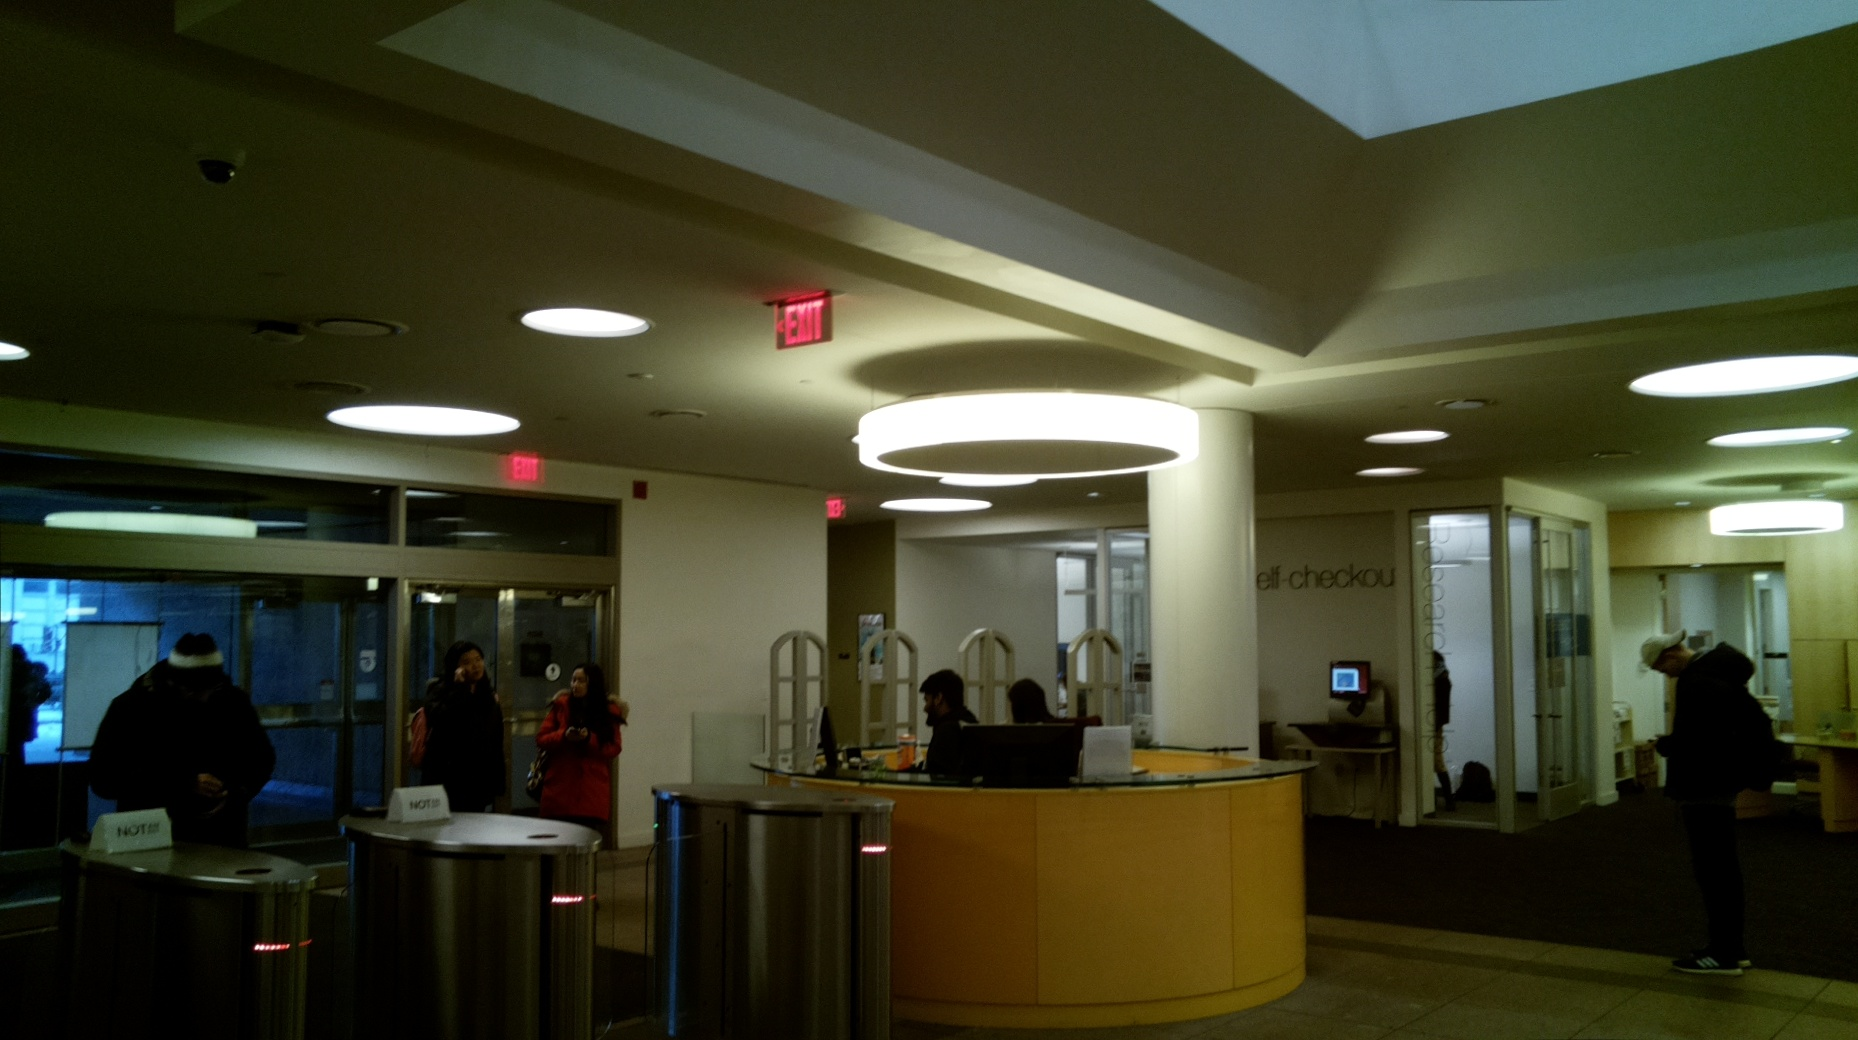exit sign: (773, 291, 833, 352), (503, 453, 545, 486), (824, 495, 850, 521)
